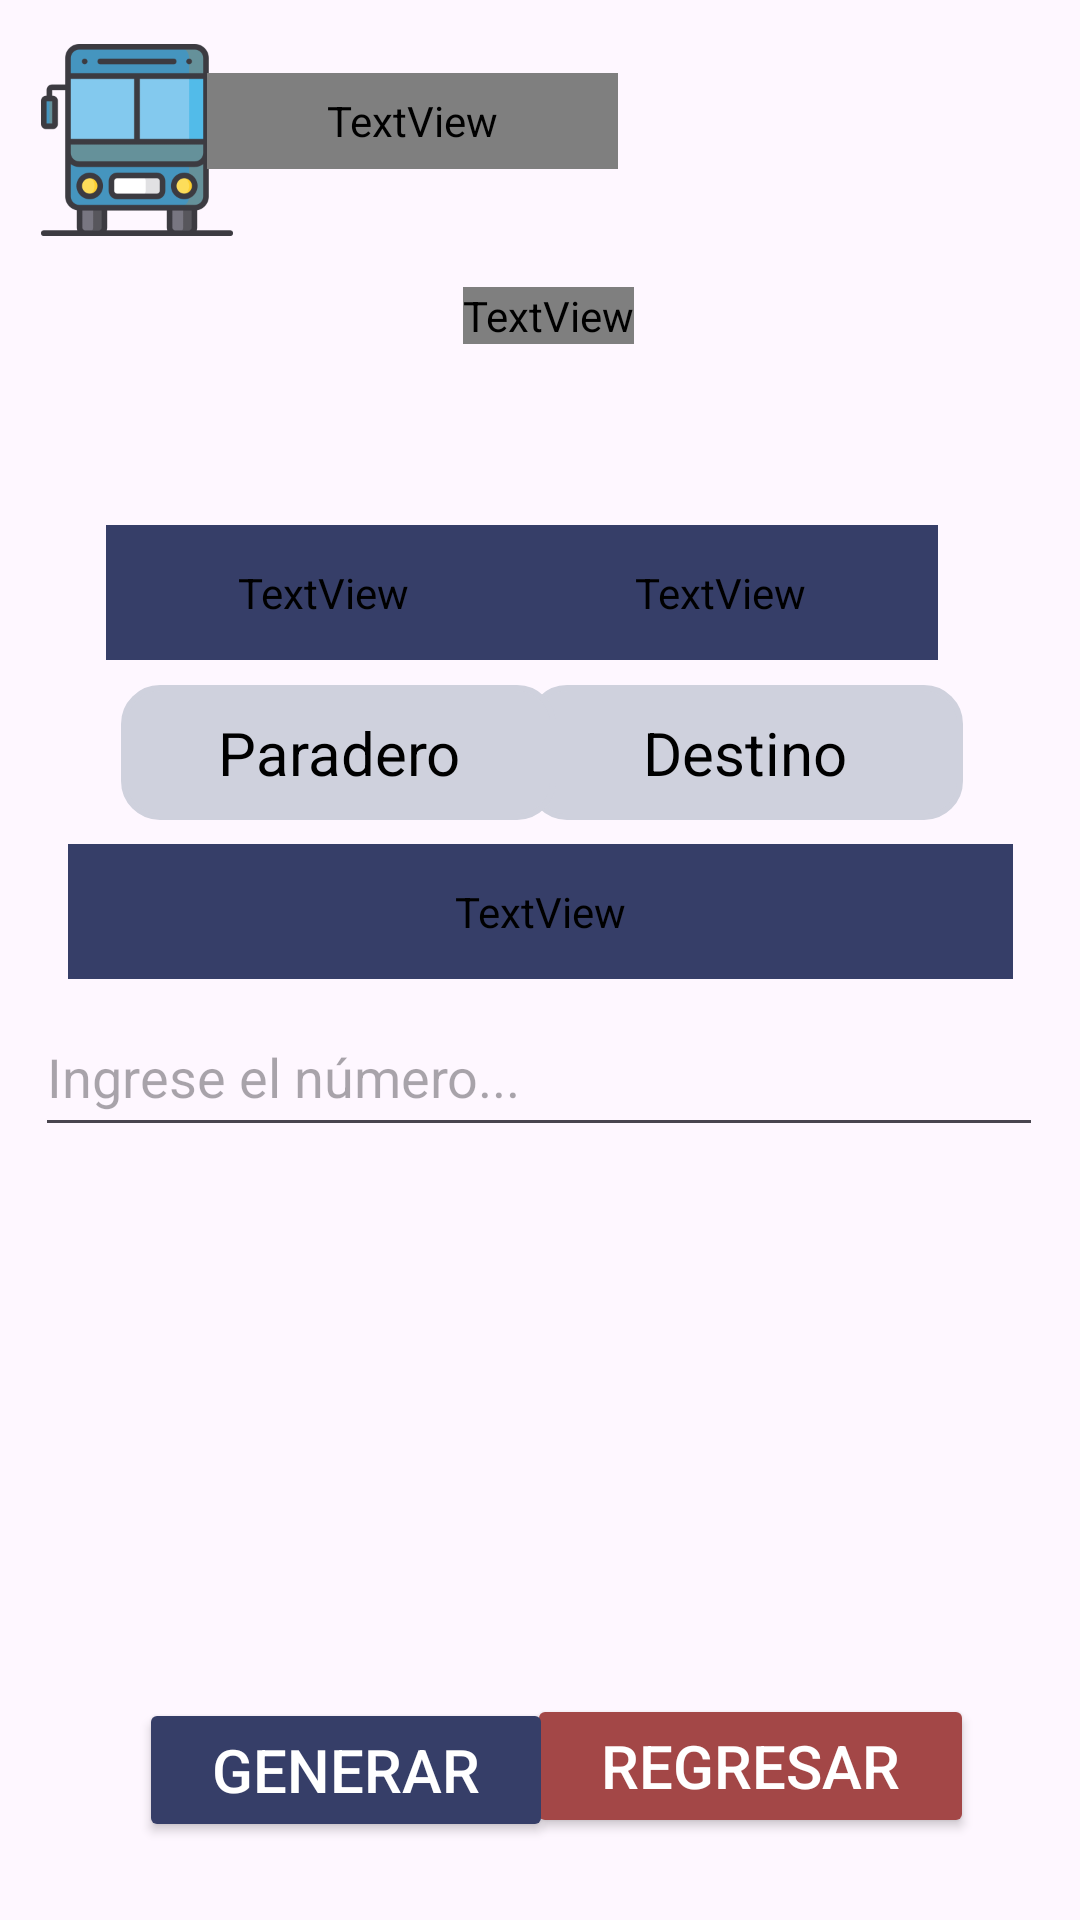

Locate icon controls on the screen. Image size 1080×1920, boxes as (x1, y1, x2, y2).
transporte publico: (41, 44, 233, 236)
